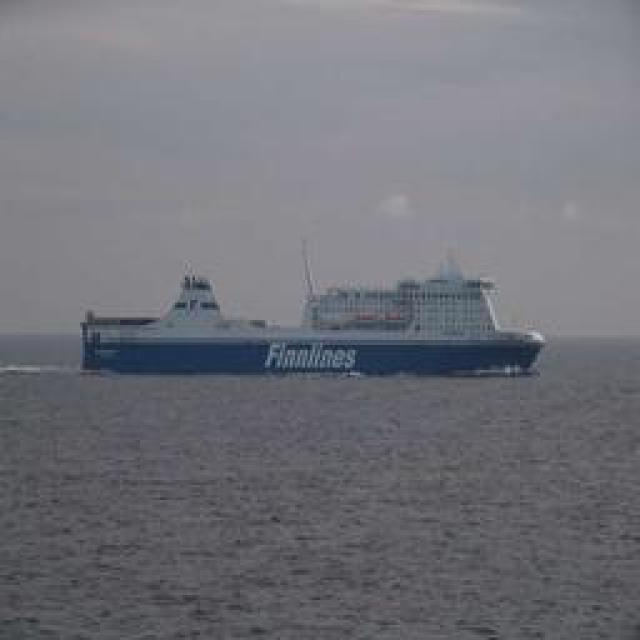Ship: (96, 257, 546, 377)
